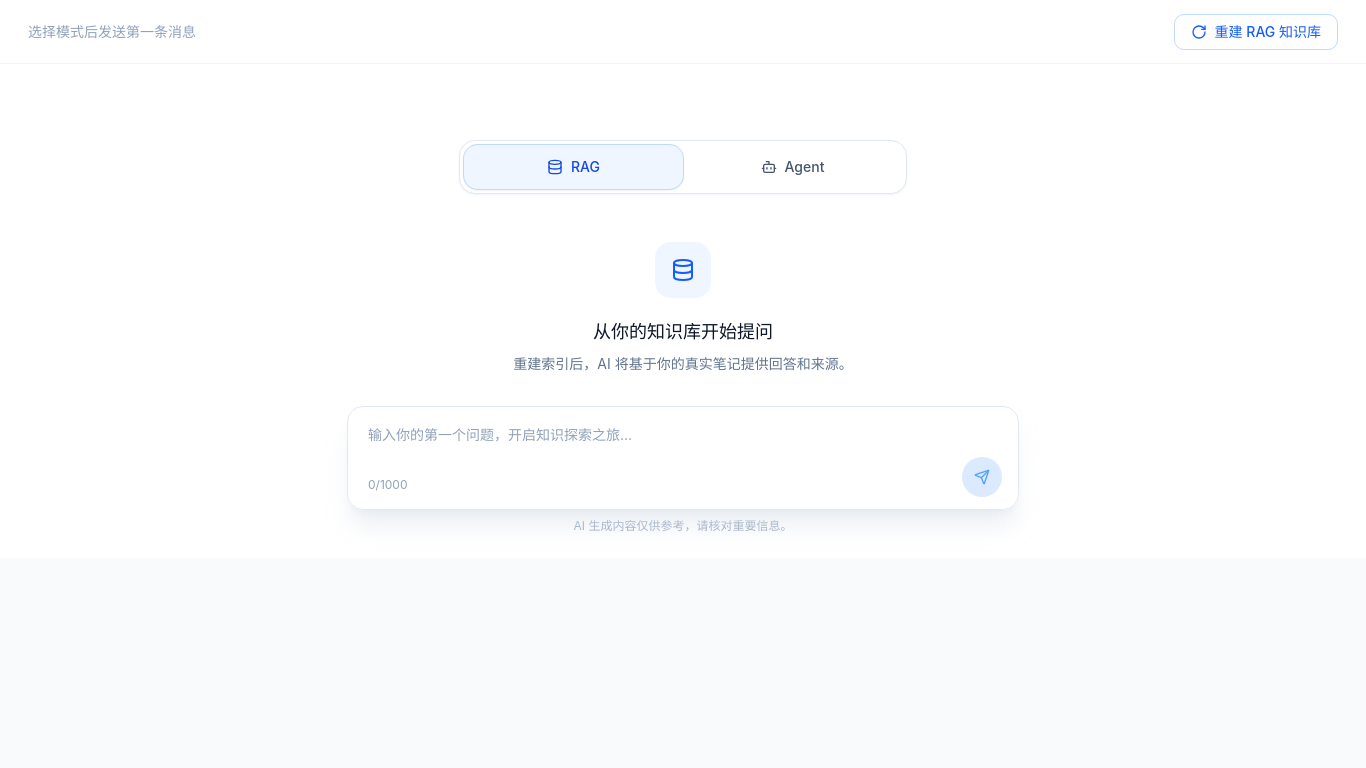
Test: AiWorkspacePage › keeps independent drafts when switching between RAG and Agent
The width and height of the screenshot is (1366, 768).
Type "RAG draft" into the text box named "RAG 问题" at (683, 455), box [348, 407, 1018, 503]
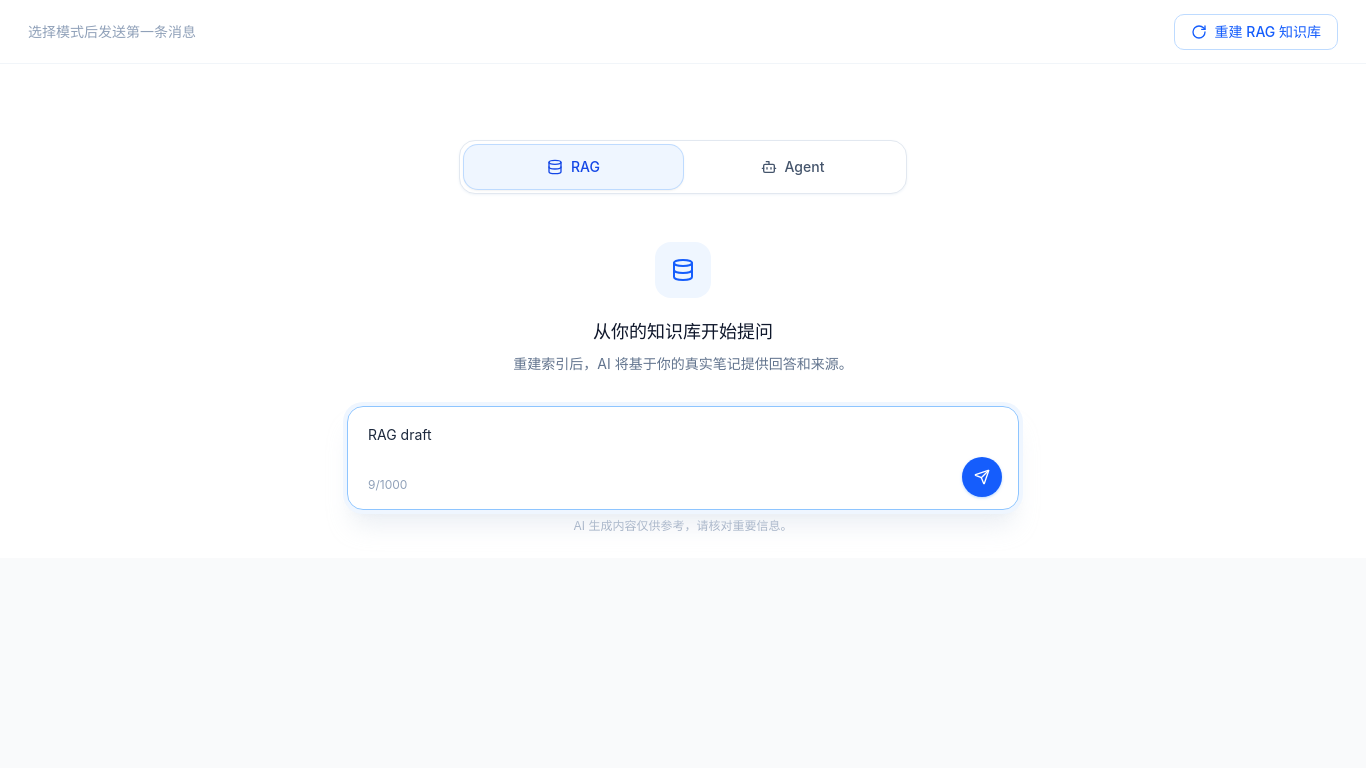
Click the button "Agent" at (792, 167), box [683, 145, 902, 189]
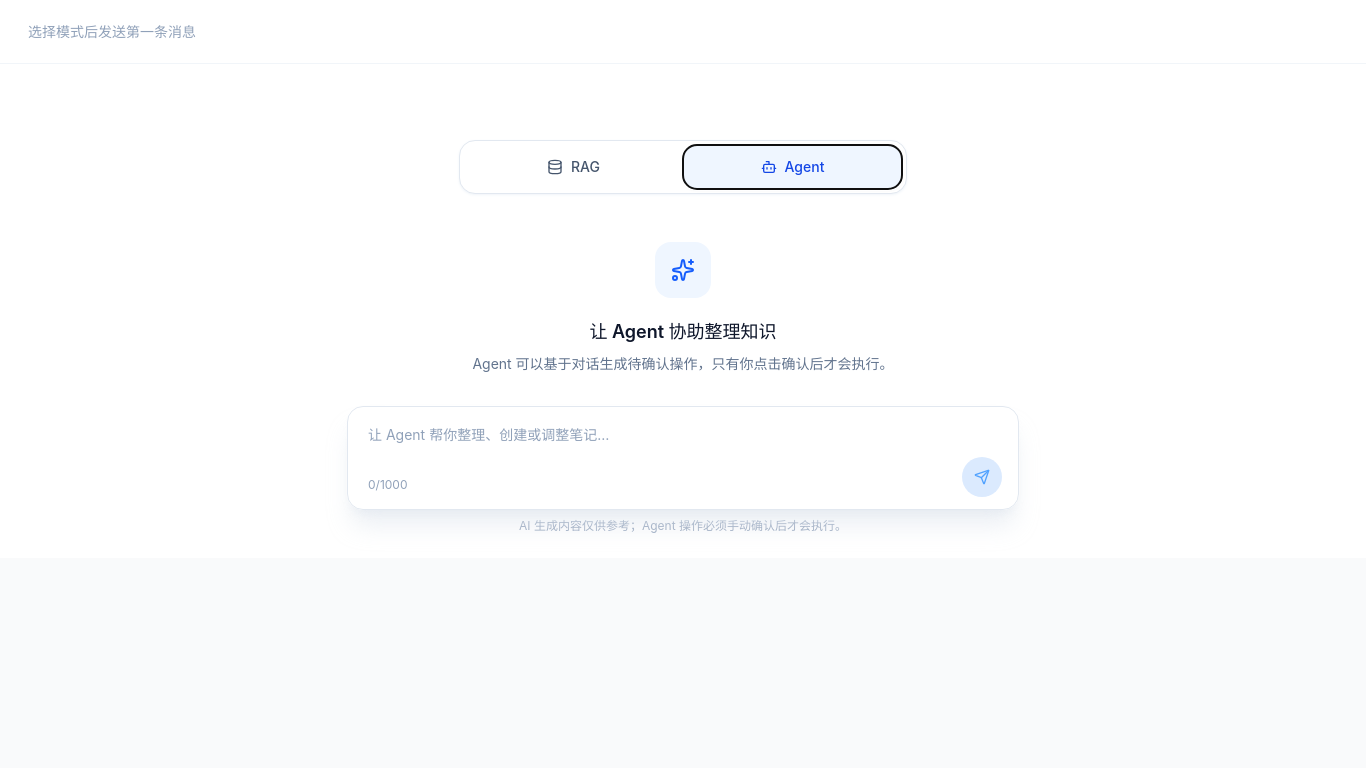
Type "Agent draft" into the text box named "Agent 消息" at (683, 455), box [348, 407, 1018, 503]
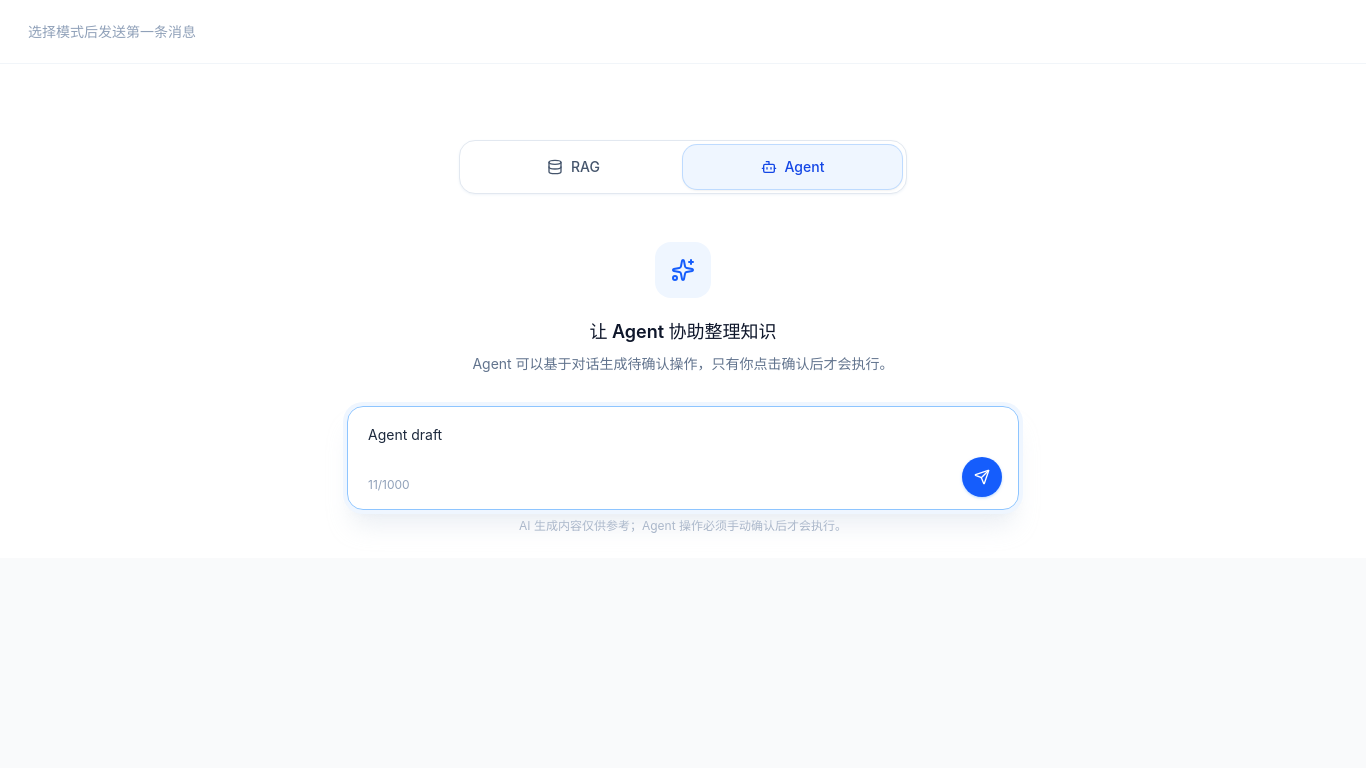
Click the button "RAG" at (574, 167), box [464, 145, 683, 189]
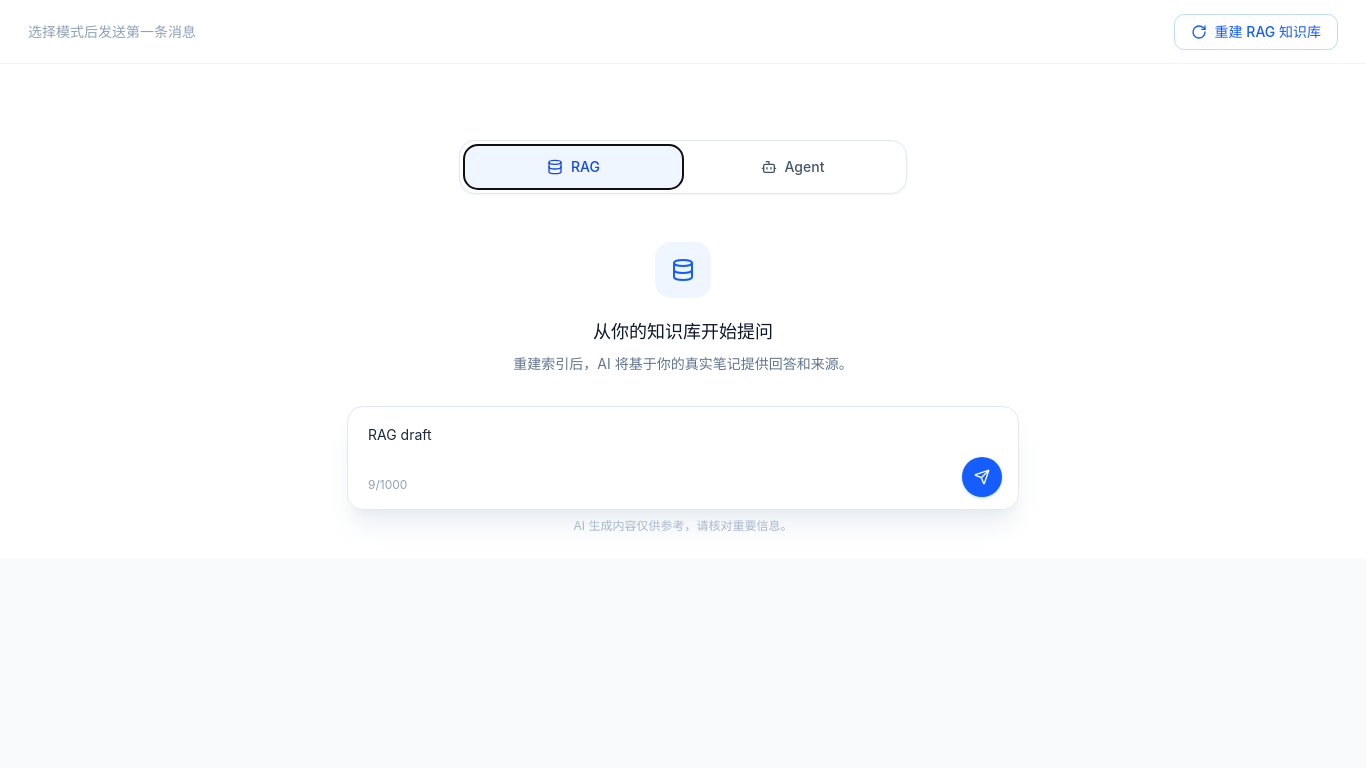
Expected: the button named "发送 RAG 问题" is enabled, [962, 457, 1002, 497]
Expected: the text box named "RAG 问题" holds "RAG draft", [348, 407, 1018, 503]
Click the button "Agent" at (792, 167), box [683, 145, 902, 189]
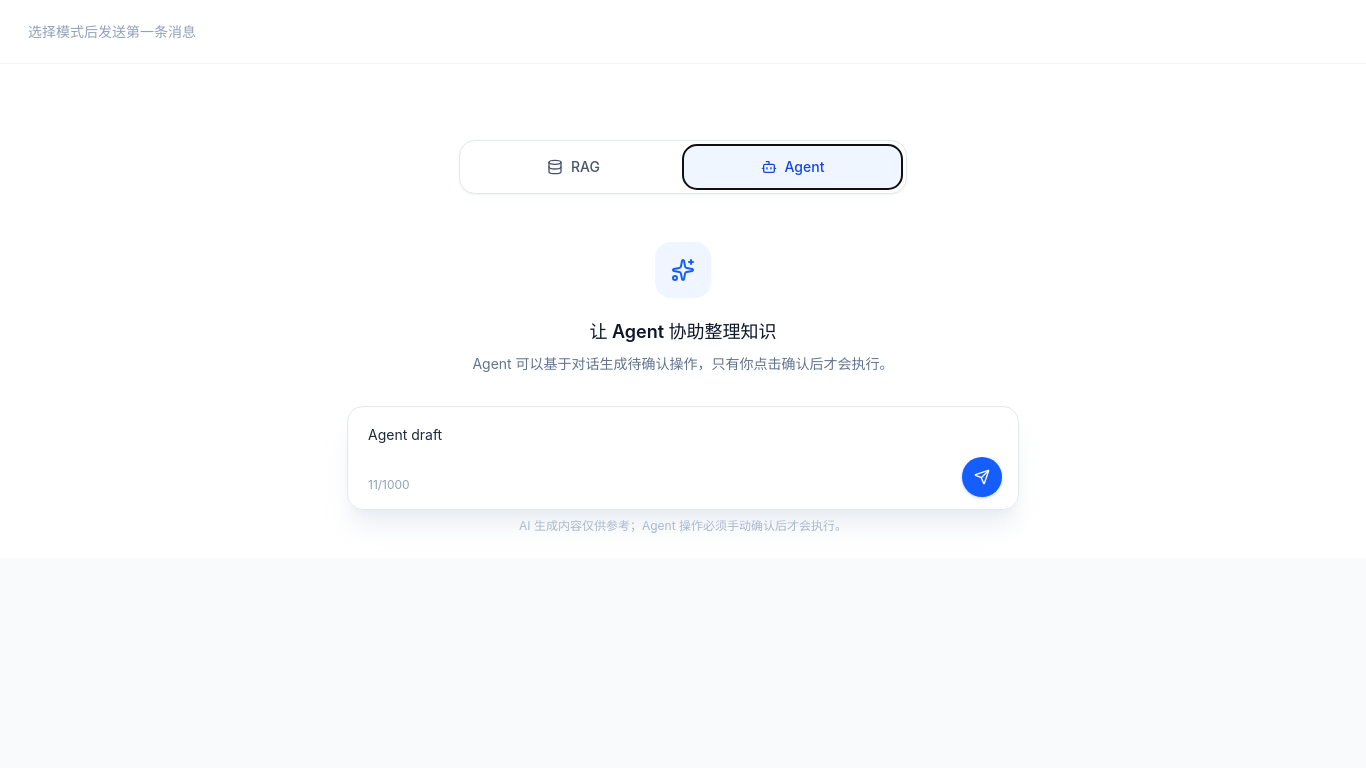
Expected: the button named "发送 Agent 消息" is enabled, [962, 457, 1002, 497]
Expected: the text box named "Agent 消息" holds "Agent draft", [348, 407, 1018, 503]
